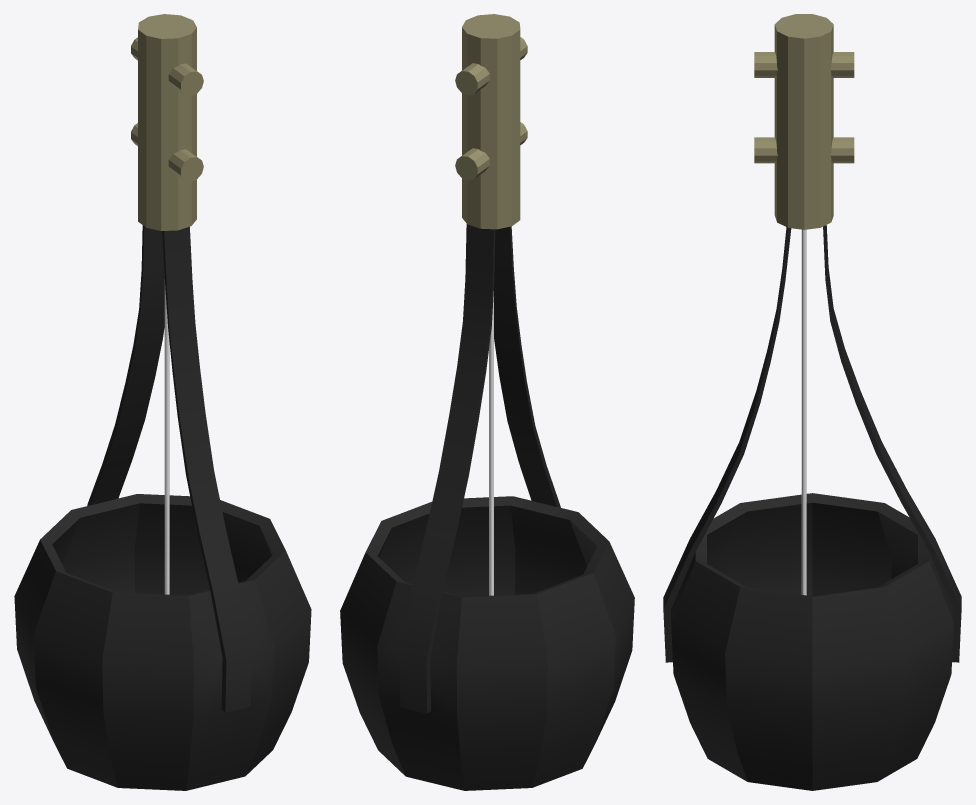
File: 8_ektara.fbx
The picture shows the model from 3 angles, left to right: view 1: azimuth 30°, elevation 25°; view 2: azimuth 150°, elevation 25°; view 3: azimuth 270°, elevation 25°; orthographic projection.
Visible parts, largest first — view 1: Aktara:Aktara:pCylinder2; view 2: Aktara:Aktara:pCylinder2; view 3: Aktara:Aktara:pCylinder2.
Part boxes in pixels (x1,y1,x2,y2): Aktara:Aktara:pCylinder2: [14, 14, 311, 790]; Aktara:Aktara:pCylinder2: [340, 14, 634, 790]; Aktara:Aktara:pCylinder2: [663, 14, 961, 790].
Bounding box in the file's own units: 1.76 × 4.7 × 1.76.
Materials: 1 (1 with a texture image).
